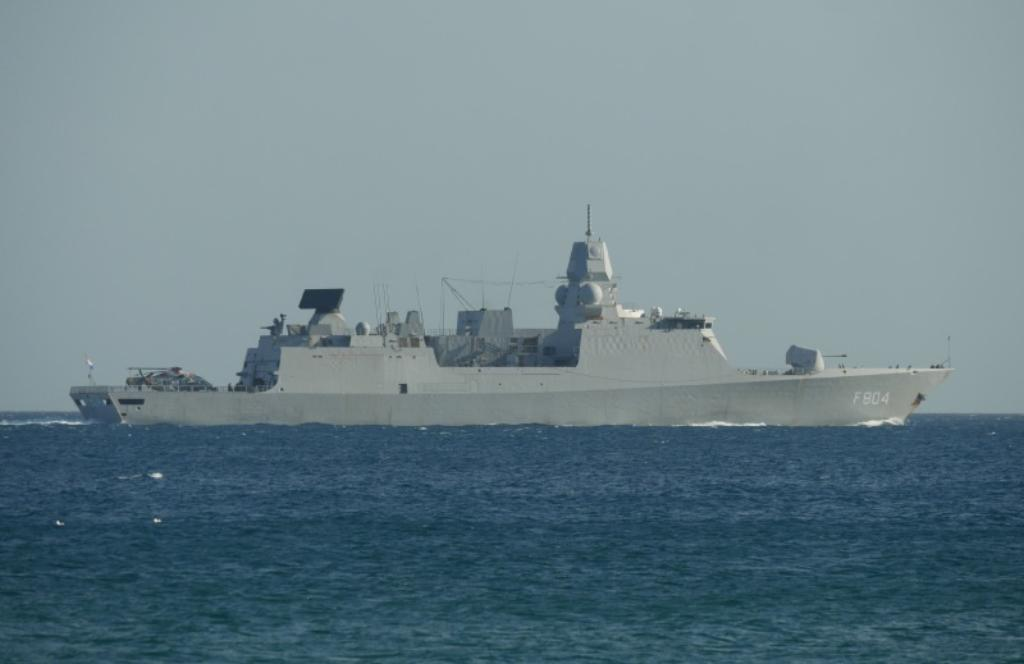Warship: (67, 197, 961, 431)
